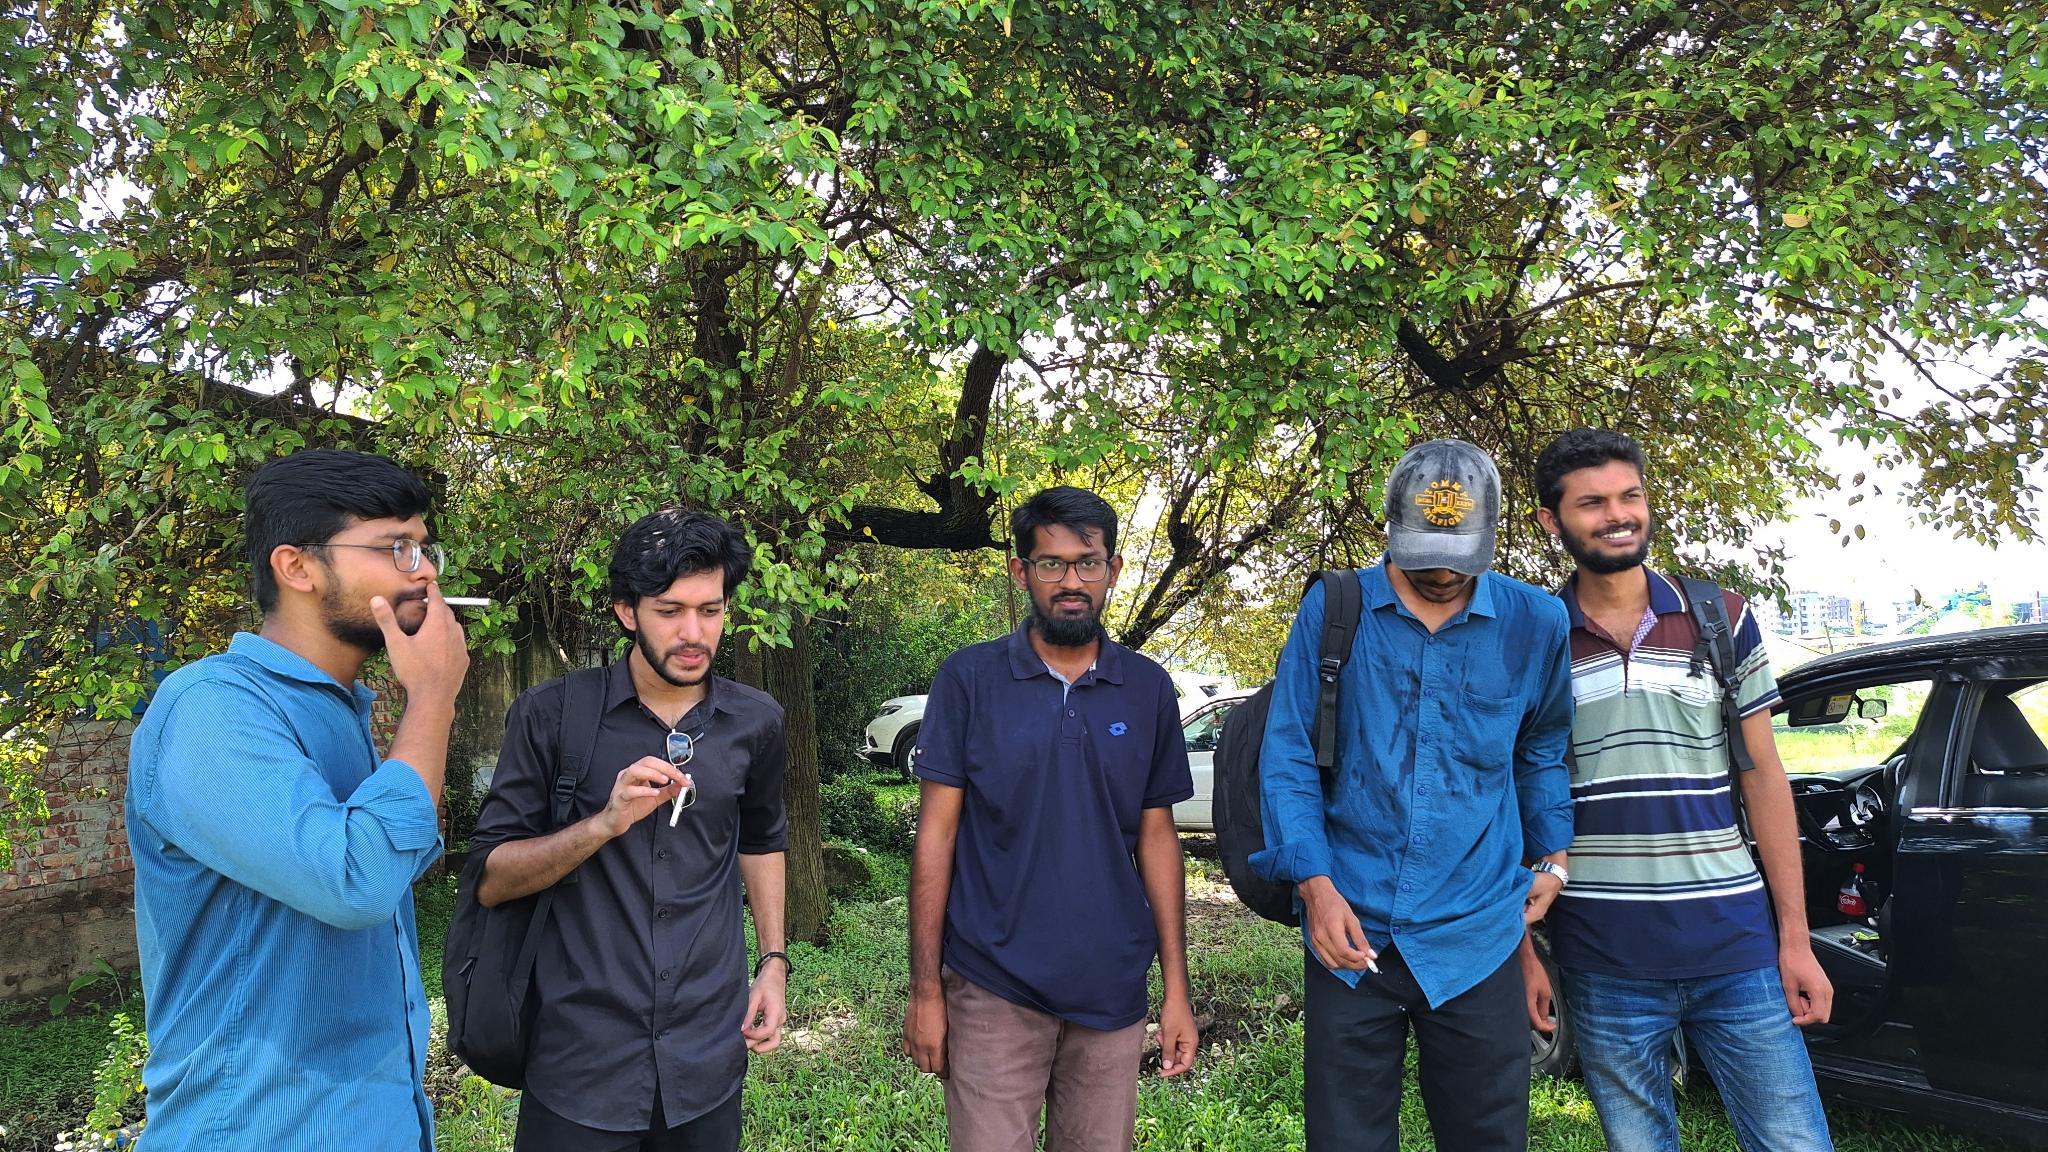cigarette: (668, 771, 695, 830), (421, 592, 494, 609), (1360, 954, 1381, 976)
nonSmoker: (1529, 429, 1836, 1152), (902, 484, 1198, 1152)
smoker: (1211, 437, 1571, 1152), (125, 449, 473, 1152), (444, 506, 793, 1152)
